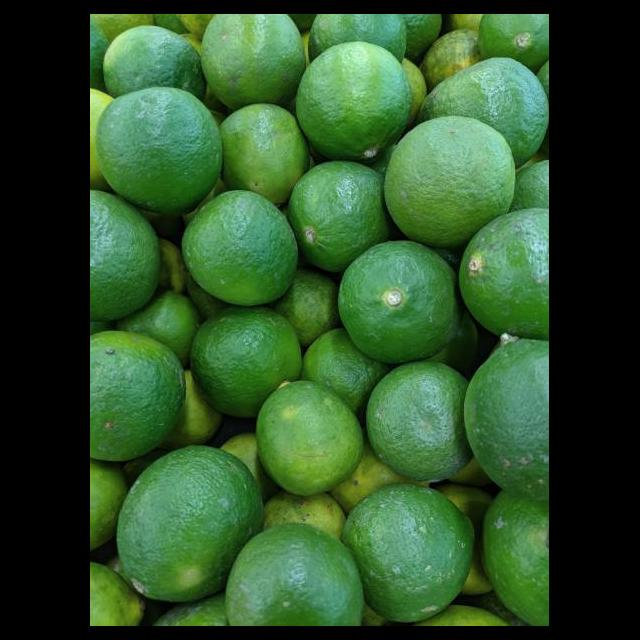lime: (96, 88, 224, 217), (338, 242, 462, 367), (296, 43, 412, 165)
